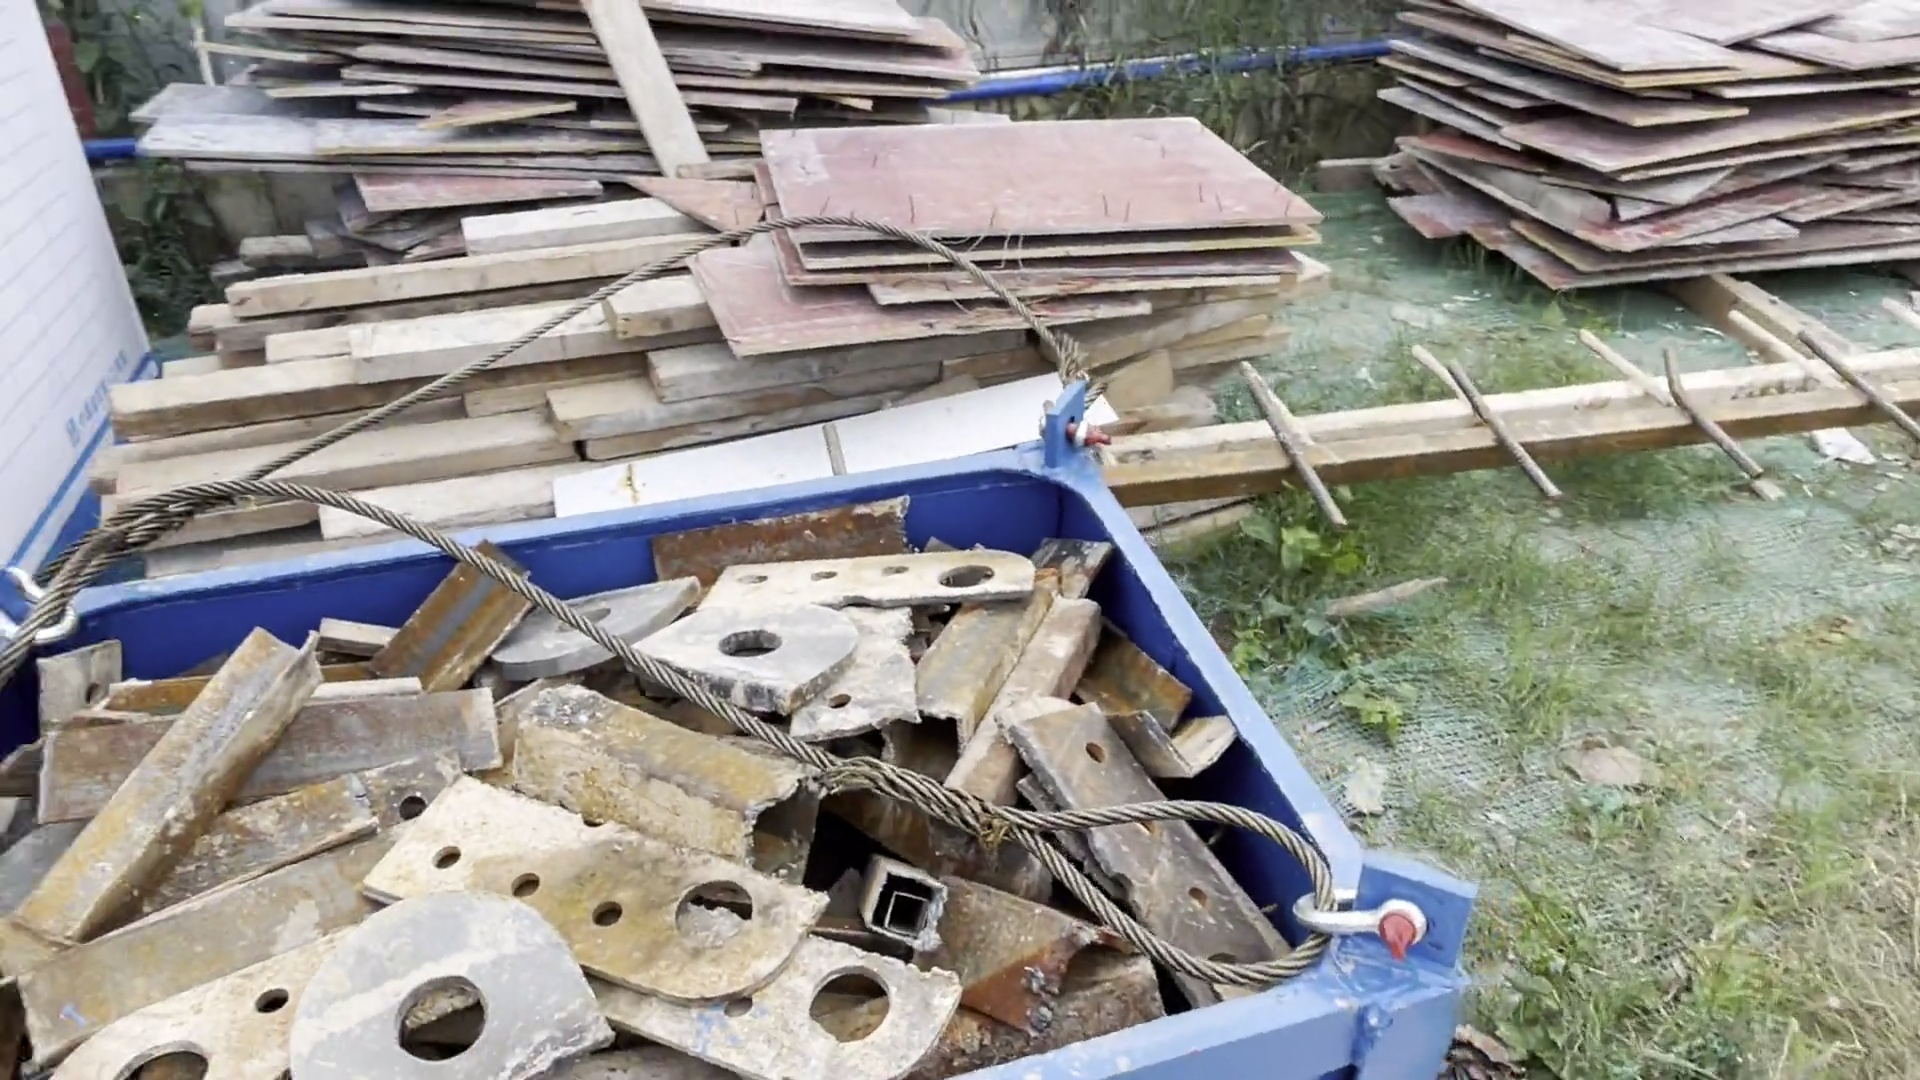board: (156, 1, 963, 216), (1364, 7, 1920, 307), (707, 115, 1313, 382)
hopper: (15, 447, 1610, 1080)
wood: (142, 204, 1249, 538)
